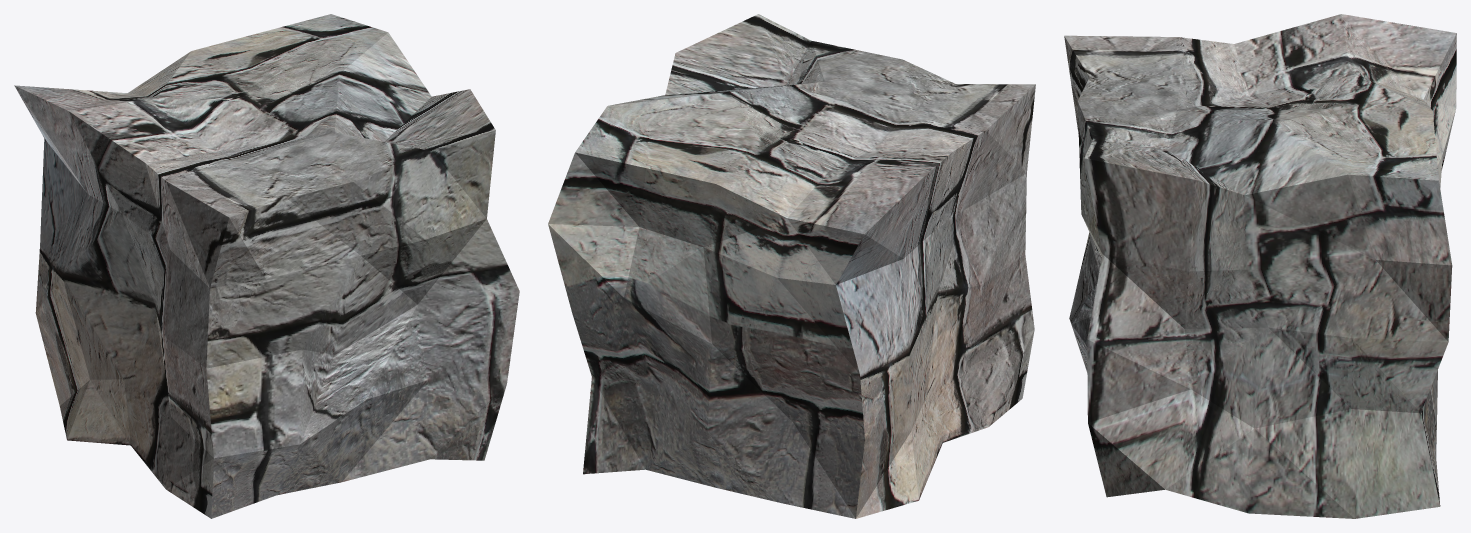
Rendered from WallDisplayMesh3.obj.
3 views of the same model, side by side, from view 1: azimuth 30°, elevation 25°; view 2: azimuth 150°, elevation 25°; view 3: azimuth 270°, elevation 25° (orthographic). The views are drawn at different scales.
Parts seen in each view (by area): view 1: Cube_Cube.001; view 2: Cube_Cube.001; view 3: Cube_Cube.001.
Part boxes in pixels (x1,y1,x2,y2): Cube_Cube.001: (14, 14, 519, 518); Cube_Cube.001: (548, 14, 1035, 518); Cube_Cube.001: (1064, 14, 1456, 518).
Size of the model in its own units: 1.12 by 1.13 by 1.14.
Materials: 1 (1 with a texture image).
